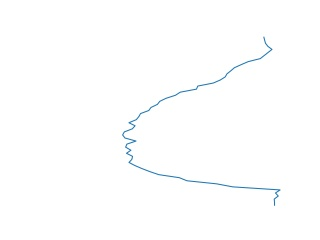underwaterDistributaryChannel: (122, 38, 285, 206)
